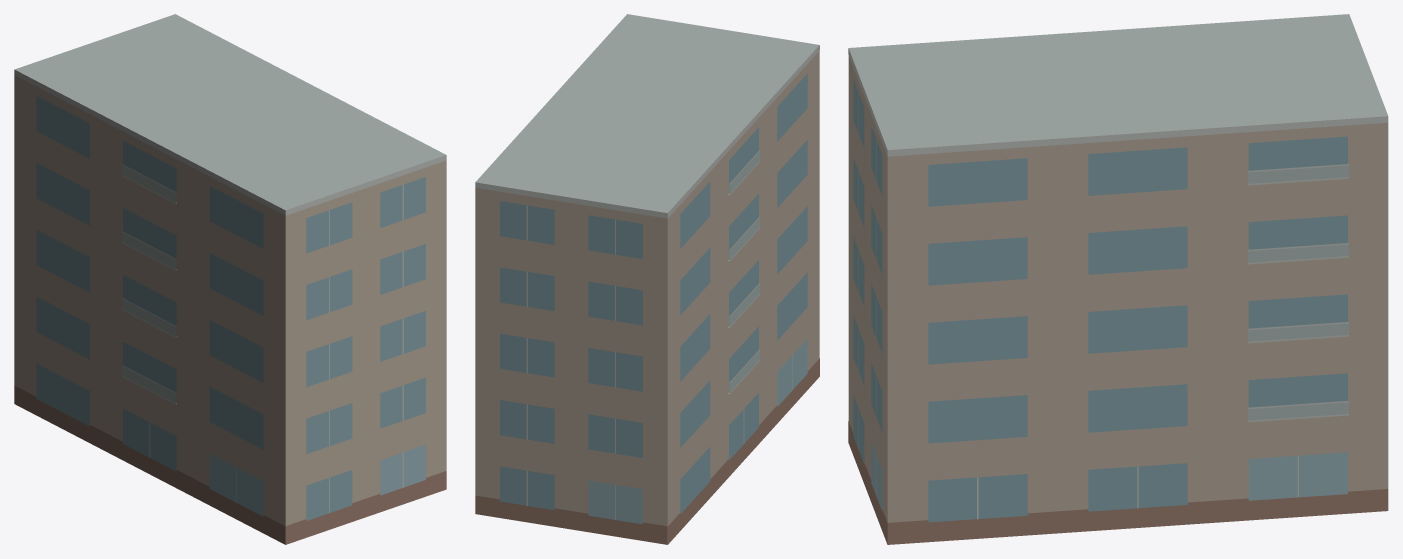
Rendered from survey-upis-32608169.glb.
The picture shows the model from 3 angles, left to right: view 1: azimuth 30°, elevation 25°; view 2: azimuth 150°, elevation 25°; view 3: azimuth 270°, elevation 25°; orthographic projection. The views are drawn at different scales.
Parts seen in each view (by area): view 1: survey-upis-32608169.tmp; view 2: survey-upis-32608169.tmp; view 3: survey-upis-32608169.tmp.
Boxes of the visible parts, <box> form: survey-upis-32608169.tmp: <box>14,14,446,544</box>; survey-upis-32608169.tmp: <box>475,14,819,544</box>; survey-upis-32608169.tmp: <box>848,14,1388,544</box>.
Bounding box in the file's own units: 11.11 × 15 × 18.61.
